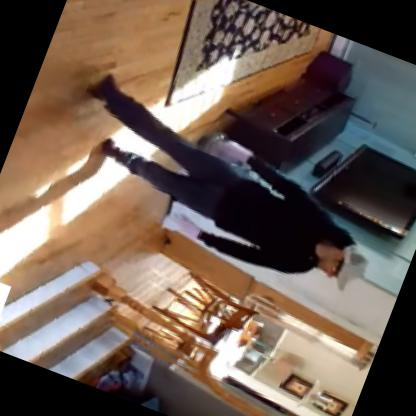Human Body: (46, 60, 405, 309)
